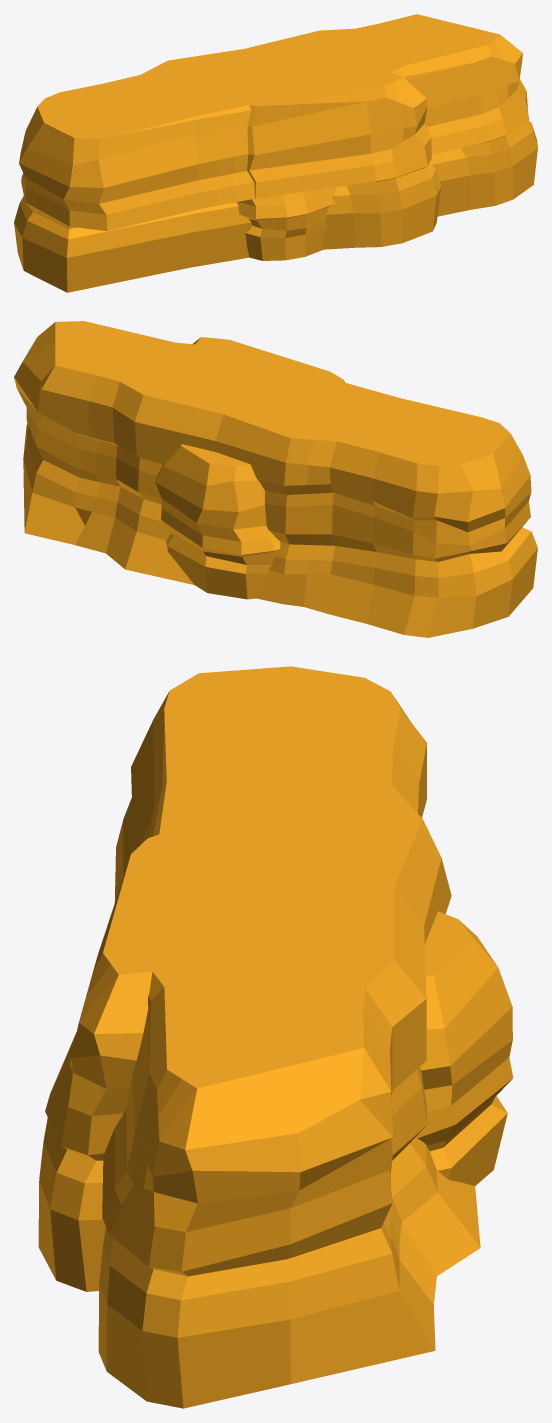
The model's file is Skały.fbx.
3 renders of one model, top to bottom at view 1: azimuth 30°, elevation 25°; view 2: azimuth 150°, elevation 25°; view 3: azimuth 270°, elevation 25°, orthographic. The views are drawn at different scales.
Visible parts, largest first — view 1: Cube.093, Cube.088, Cube.086; view 2: Cube.093, Cube.095, Cube.088; view 3: Cube.093, Cube.088, Cube.095.
Part boxes in pixels (bbox=[...]): Cube.093: bbox=[14, 14, 537, 292]; Cube.088: bbox=[214, 47, 441, 249]; Cube.086: bbox=[236, 187, 336, 260]; Cube.093: bbox=[14, 321, 537, 637]; Cube.095: bbox=[155, 444, 280, 599]; Cube.088: bbox=[171, 337, 346, 414]; Cube.093: bbox=[98, 666, 480, 1408]; Cube.088: bbox=[38, 825, 358, 1291]; Cube.095: bbox=[416, 911, 513, 1185].
Bounding box in the file's own units: 81.07 × 23.42 × 34.42.
